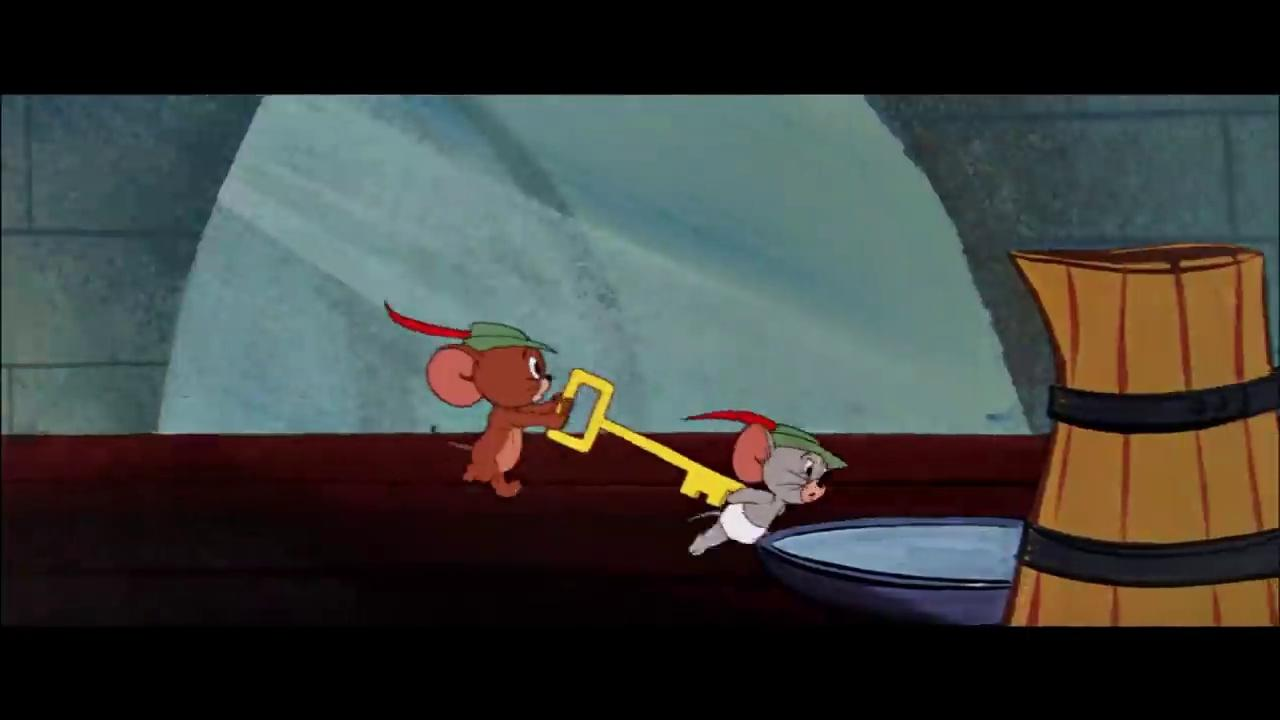Jerry: (425, 342, 575, 500)
